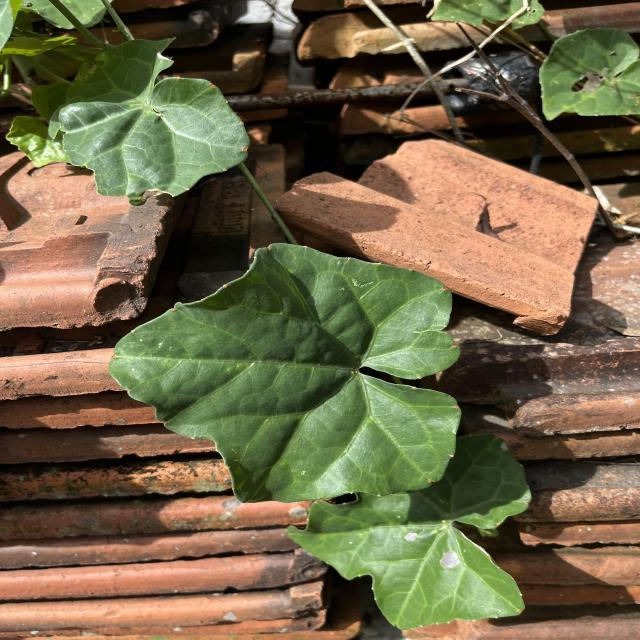Coccinia grandis: (105, 242, 463, 506)
